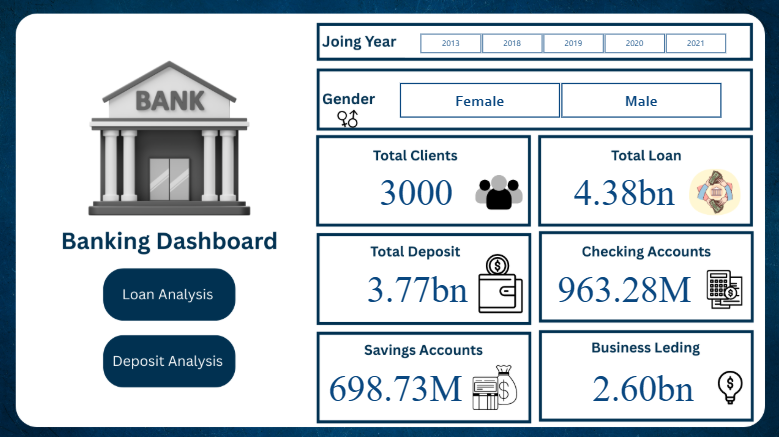

This screenshot's page, from the dashboard's own definition file:
{"tool":"powerbi","page":{"name":"Home","canvas":[1280,720],"ordinal":0},"visuals":[{"type":"card","fields":{"Values":["CountNonNull(banking-clients.Client ID)"]},"box":[595,271.3,176.8,77],"z":0},{"type":"slicer","fields":{"Values":["gender.Gender"]},"box":[623,122.5,589.8,82.3],"z":1},{"type":"slicer","fields":{"Values":["banking-clients.Year of joining"]},"box":[665,50,548.3,45],"z":2},{"type":"card","fields":{"Values":["Sum(banking-clients.Checking Accounts)"]},"box":[901.7,431.7,243.3,75],"z":3},{"type":"card","fields":{"Values":["Sum(banking-clients.Saving Accounts)"]},"box":[526.7,593.3,245,75],"z":4},{"type":"card","fields":{"Values":["Sum(banking-clients.Business Lending)"]},"box":[950.3,593.3,208.3,75.3],"z":5},{"type":"card","fields":{"Values":["banking-clients.Total Loan"]},"box":[935,271.7,176.7,76.7],"z":6},{"type":"card","fields":{"Values":["banking-clients.Total Deposit"]},"box":[596.8,430.5,176.8,77],"z":7},{"type":"actionButton","box":[170,550,223.3,88.3],"z":8},{"type":"actionButton","box":[170,431.7,216.7,88.3],"z":9}]}

Visuals, with their boxes in screenshot pixels (x1, y1, x2, y2), scaled from the page's 1280x720 canvas onto the 779x437 screenshot:
card - CountNonNull(banking-clients.Client ID): (x1=362, y1=165, x2=470, y2=211)
slicer - gender.Gender: (x1=379, y1=74, x2=738, y2=124)
slicer - banking-clients.Year of joining: (x1=405, y1=30, x2=738, y2=58)
card - Sum(banking-clients.Checking Accounts): (x1=549, y1=262, x2=697, y2=308)
card - Sum(banking-clients.Saving Accounts): (x1=321, y1=360, x2=470, y2=406)
card - Sum(banking-clients.Business Lending): (x1=578, y1=360, x2=705, y2=406)
card - banking-clients.Total Loan: (x1=569, y1=165, x2=677, y2=211)
card - banking-clients.Total Deposit: (x1=363, y1=261, x2=471, y2=308)
actionButton: (x1=103, y1=334, x2=239, y2=387)
actionButton: (x1=103, y1=262, x2=235, y2=316)
